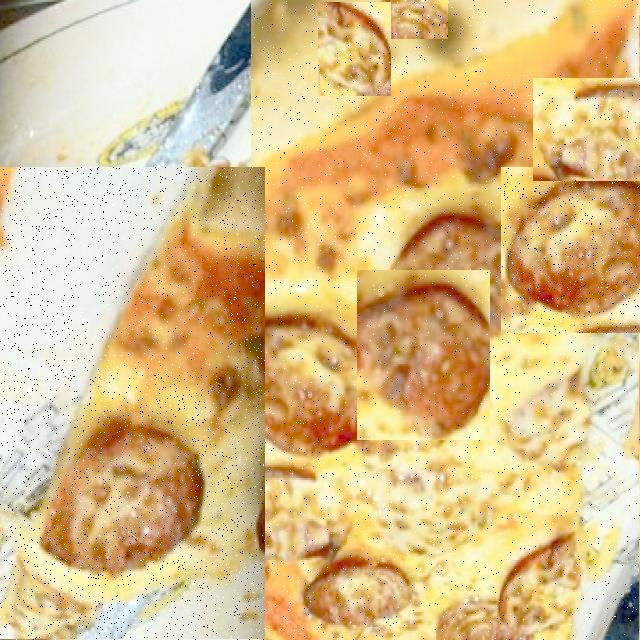Pepperoni: (501, 167, 640, 333), (74, 224, 224, 376), (358, 270, 492, 440), (533, 78, 640, 181), (318, 2, 391, 96), (486, 20, 590, 74), (372, 0, 449, 39)
Pizza: (251, 0, 640, 640), (0, 167, 265, 640)
